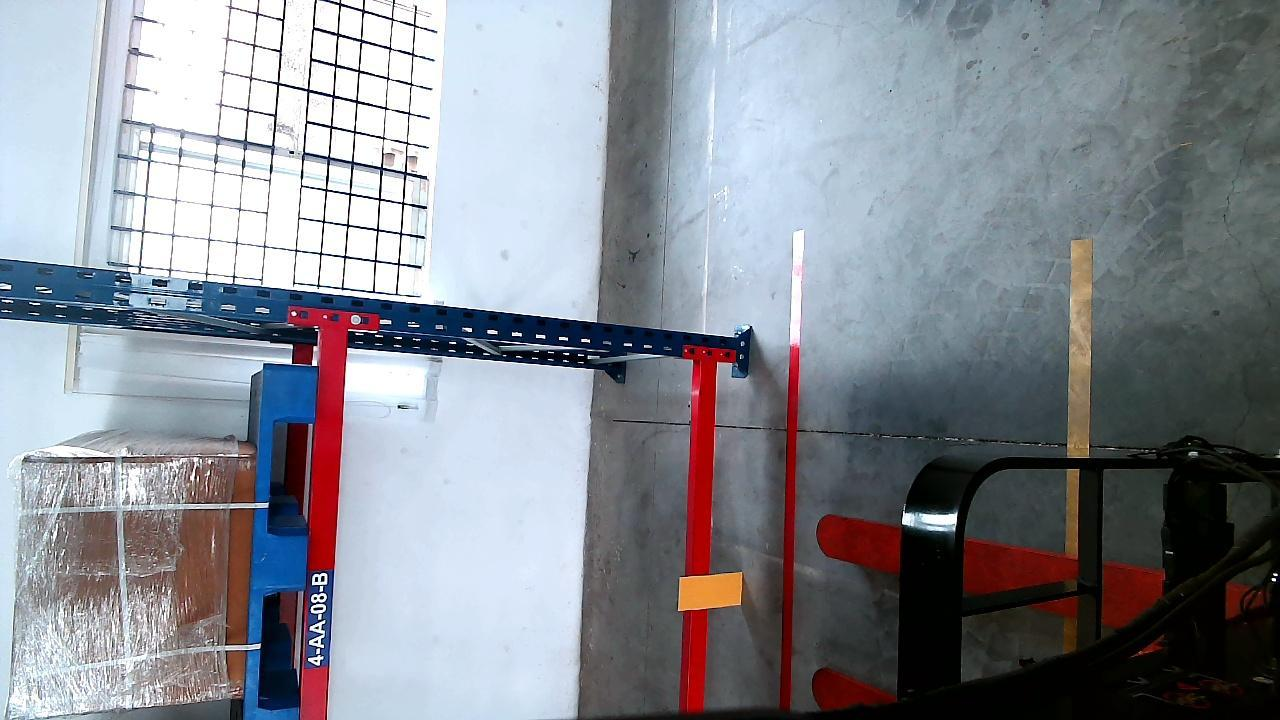red_line: (776, 229, 806, 707)
yellow_line: (1068, 232, 1091, 471)
